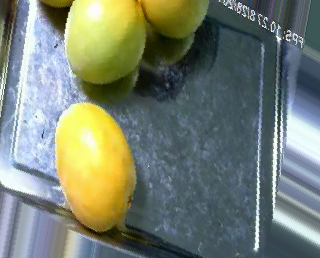Mango: (48, 95, 142, 235), (62, 1, 145, 84)
